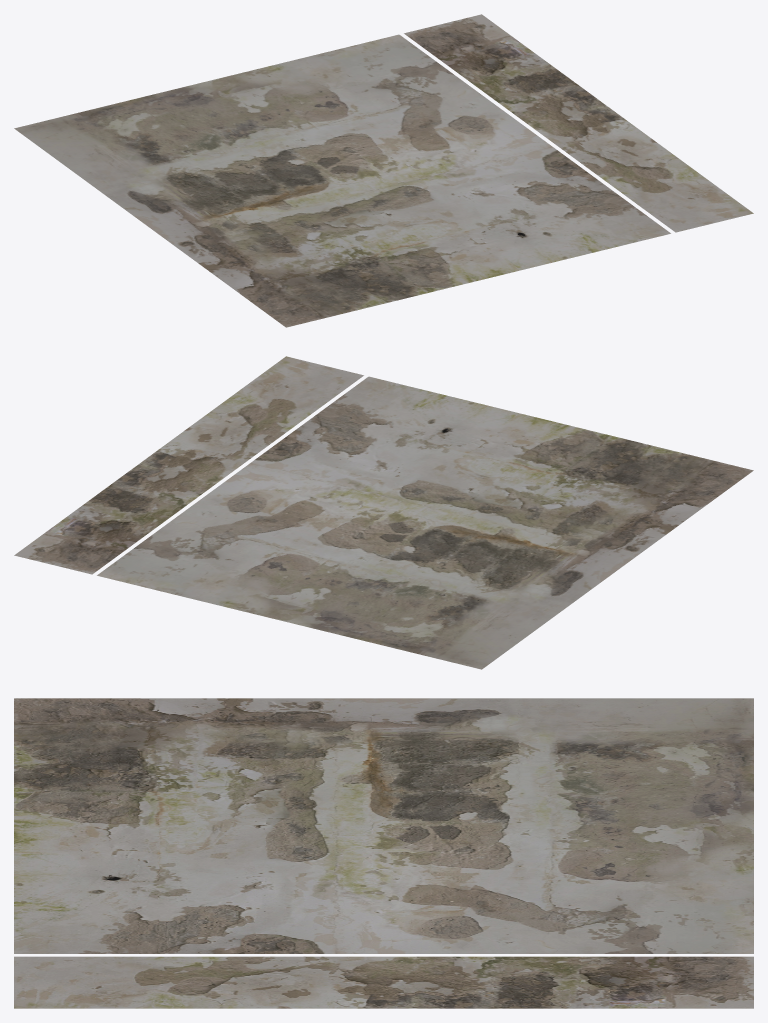
File: A4_H2_Ceiling.FBX
The picture shows the model from 3 angles, top to bottom: view 1: azimuth 30°, elevation 25°; view 2: azimuth 150°, elevation 25°; view 3: azimuth 270°, elevation 25°; orthographic projection. The views are drawn at different scales.
Parts seen in each view (by area): view 1: A4_H2_Ceiling; view 2: A4_H2_Ceiling; view 3: A4_H2_Ceiling.
Boxes of the visible parts, <box> form: A4_H2_Ceiling: <box>14,14,753,327</box>; A4_H2_Ceiling: <box>14,356,753,669</box>; A4_H2_Ceiling: <box>14,698,753,1008</box>.
Size of the model in its own units: 1625 by 0.000488 by 1637.
